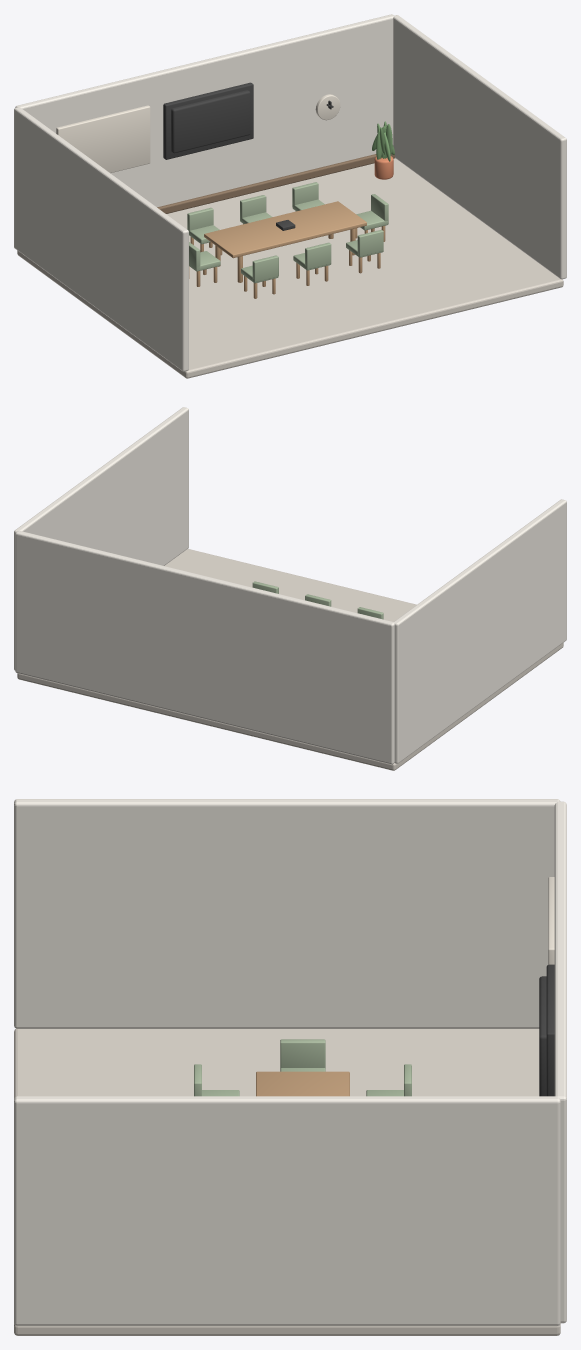
Rendered from room-meeting.glb.
3 views of the same model, one above another, from view 1: azimuth 30°, elevation 25°; view 2: azimuth 150°, elevation 25°; view 3: azimuth 270°, elevation 25° (orthographic). The views are drawn at different scales.
Visible parts, largest first — view 1: room-meeting_floor, room-meeting_back, room-meeting_left, room-meeting_right, top.003, panel.010, screen.014, room-meeting_trim, panel.009, back.015, back.016, back.014 (+4 smaller); view 2: room-meeting_back, room-meeting_left, room-meeting_right, room-meeting_floor; view 3: room-meeting_right, room-meeting_left, room-meeting_floor, room-meeting_back, top.003, back.020, panel.009, screen.014.
Boxes of the visible parts, <box> form: room-meeting_floor: <box>17,158,563,378</box>; room-meeting_back: <box>15,14,393,207</box>; room-meeting_left: <box>14,107,188,371</box>; room-meeting_right: <box>393,15,566,279</box>; top.003: <box>204,201,366,258</box>; panel.010: <box>56,105,150,173</box>; screen.014: <box>171,90,250,153</box>; room-meeting_trim: <box>157,154,394,213</box>; panel.009: <box>163,82,253,159</box>; back.015: <box>305,242,331,269</box>; back.016: <box>357,229,383,256</box>; back.014: <box>252,255,278,282</box>; room-meeting_back: <box>15,531,394,764</box>; room-meeting_left: <box>394,499,566,763</box>; room-meeting_right: <box>14,407,188,670</box>; room-meeting_floor: <box>17,549,563,770</box>; room-meeting_right: <box>14,1096,560,1325</box>; room-meeting_left: <box>14,799,560,1028</box>; room-meeting_floor: <box>14,1028,560,1335</box>; room-meeting_back: <box>554,801,566,1323</box>; top.003: <box>256,1071,349,1096</box>; back.020: <box>280,1039,325,1068</box>; panel.009: <box>546,964,554,1096</box>; screen.014: <box>539,976,546,1096</box>.
Bounding box in the file's own units: 9.16 × 3.38 × 7.08.
